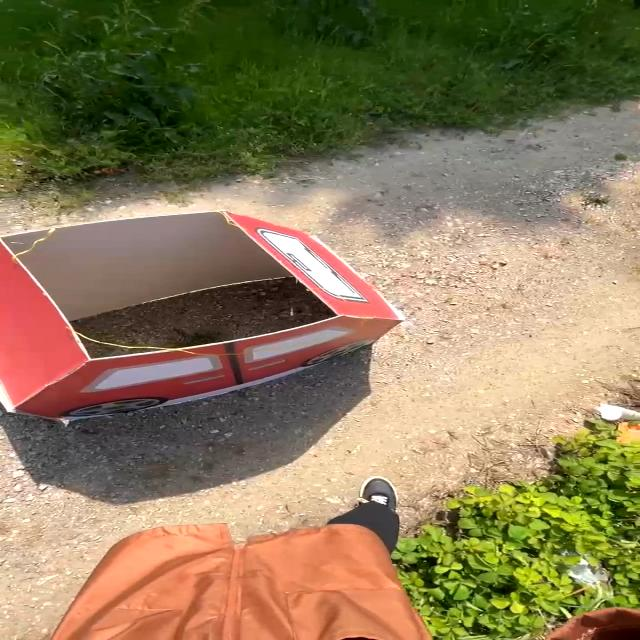red_car: (0, 209, 445, 437)
